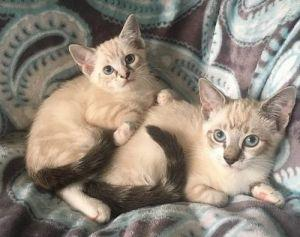siamese: (196, 76, 300, 177)
